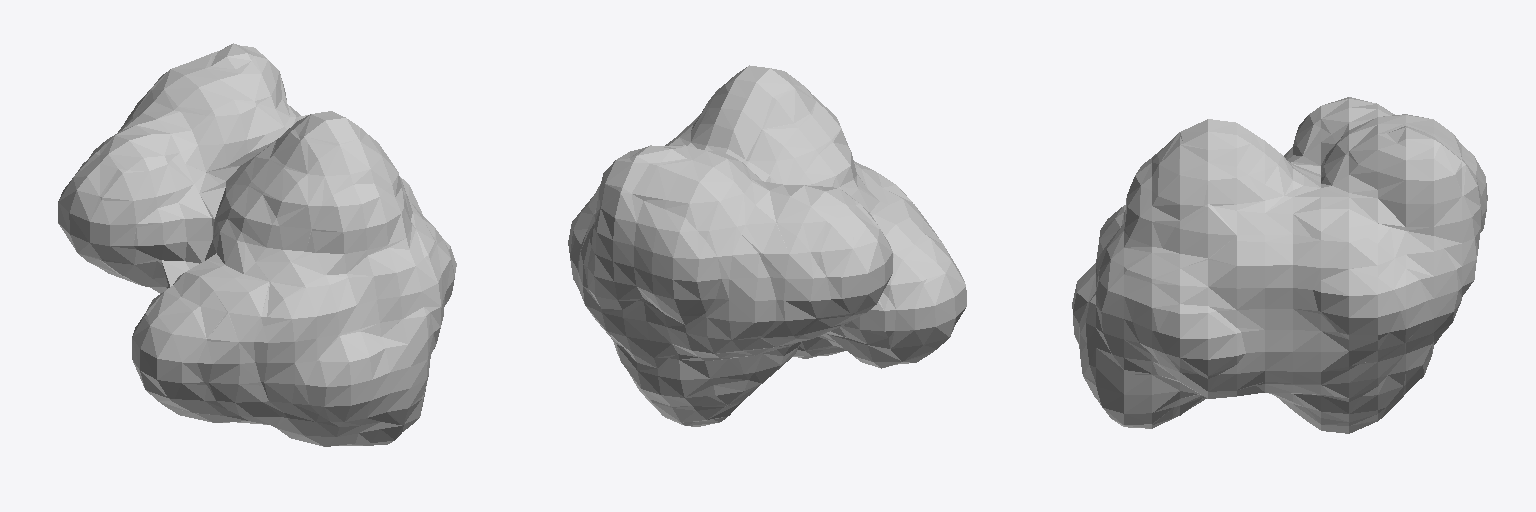
Rendered from 2wqd_1_cms.obj.
3 renders of one model, left to right at view 1: azimuth 30°, elevation 25°; view 2: azimuth 150°, elevation 25°; view 3: azimuth 270°, elevation 25°, orthographic.
Bounding box in the file's own units: 101 × 97.94 × 120.